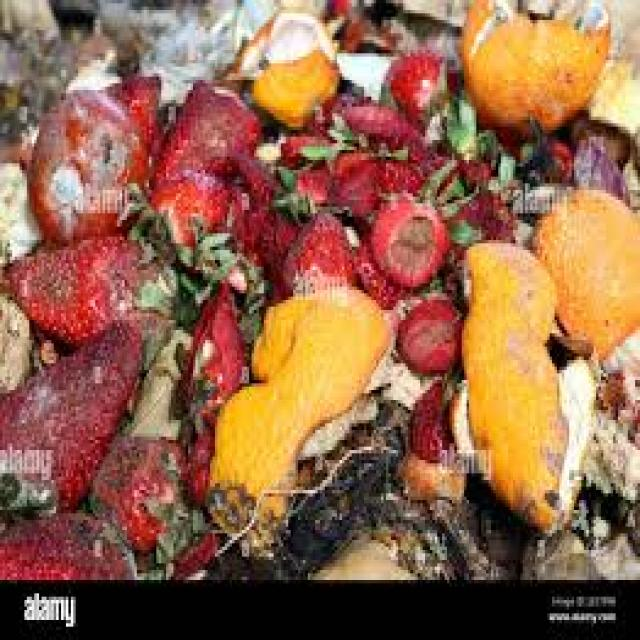Organik: (0, 2, 640, 580), (17, 36, 364, 252), (429, 159, 640, 509), (0, 221, 188, 577), (190, 248, 410, 516), (442, 0, 640, 140)
